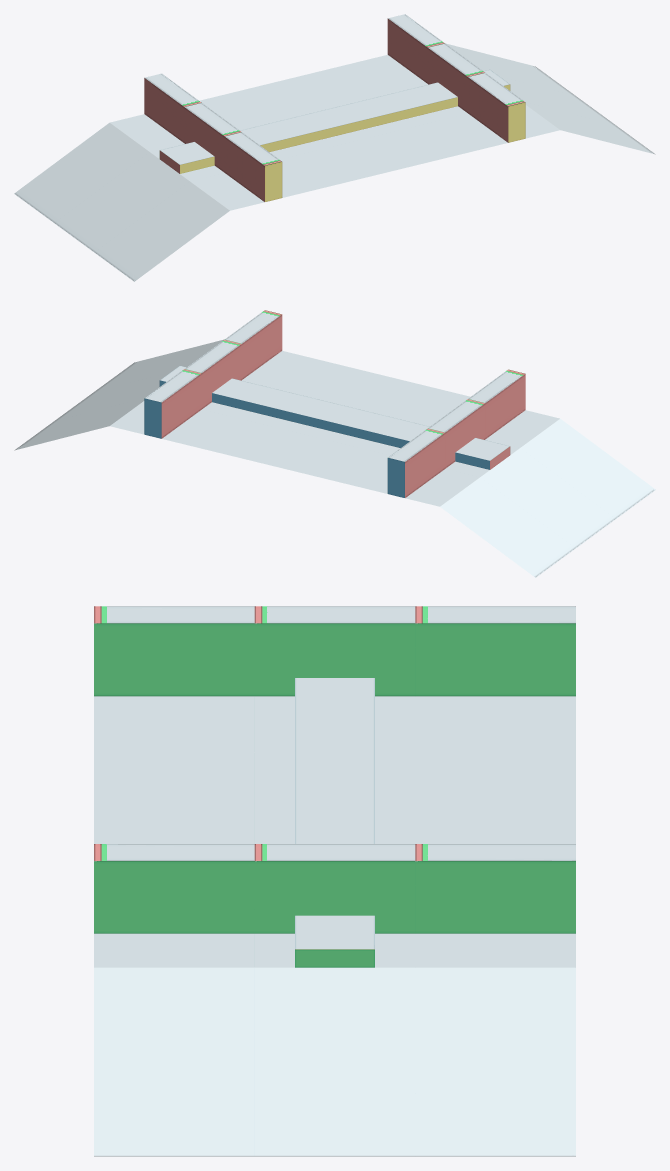
Rendered from small-traintrack.fbx.
The picture shows the model from 3 angles, top to bottom: view 1: azimuth 30°, elevation 25°; view 2: azimuth 150°, elevation 25°; view 3: azimuth 270°, elevation 25°; orthographic projection. The views are drawn at different scales.
Parts seen in each view (by area): view 1: cuboid, cube, cuboid_2, cuboid_1; view 2: cuboid, cube, cuboid_2, cuboid_1; view 3: cuboid, cuboid_2, cuboid_1, cube.
Part boxes in pixels (bbox=[...]): cuboid: bbox=[14, 43, 655, 281]; cube: bbox=[159, 69, 510, 173]; cuboid_2: bbox=[144, 73, 282, 201]; cuboid_1: bbox=[387, 14, 525, 142]; cuboid: bbox=[14, 339, 655, 577]; cube: bbox=[159, 365, 510, 469]; cuboid_2: bbox=[387, 369, 525, 497]; cuboid_1: bbox=[144, 310, 282, 438]; cuboid: bbox=[94, 696, 575, 1156]; cuboid_2: bbox=[94, 606, 575, 696]; cuboid_1: bbox=[94, 844, 575, 933]; cube: bbox=[295, 678, 374, 967].
Bounding box in the file's own units: 375 × 57.81 × 150.
3 materials, 3 textured.
